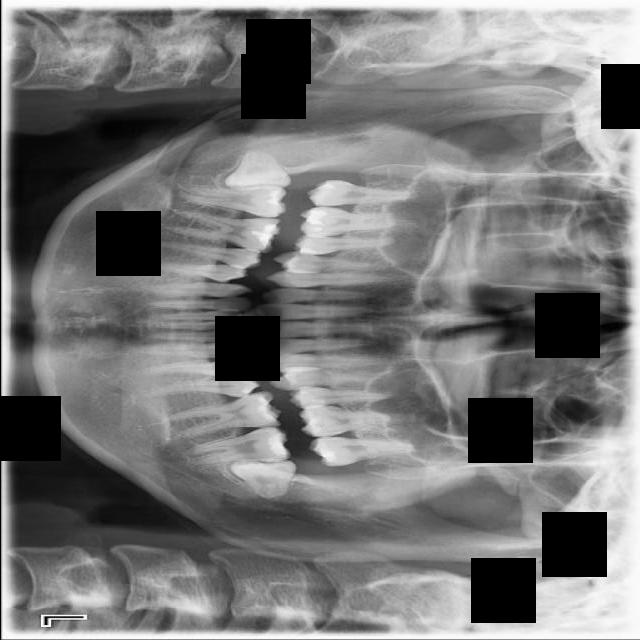52: (295, 397, 347, 444), (241, 422, 292, 469), (231, 389, 282, 431), (232, 217, 282, 255), (241, 183, 286, 219), (306, 435, 355, 466), (299, 207, 347, 237), (267, 366, 321, 391), (214, 355, 257, 381), (286, 385, 329, 410), (224, 375, 259, 399), (293, 234, 333, 254)
73: (58, 592, 82, 600)
BioHorizons Implant: (307, 436, 417, 467)
Biomet 3i Implant: (230, 460, 296, 499)
Blue Sky Bio Implant: (183, 426, 290, 469)
Caries: (306, 175, 415, 209)
Implant: (179, 185, 288, 219)
Keystone Dental Implant: (221, 147, 292, 193)
